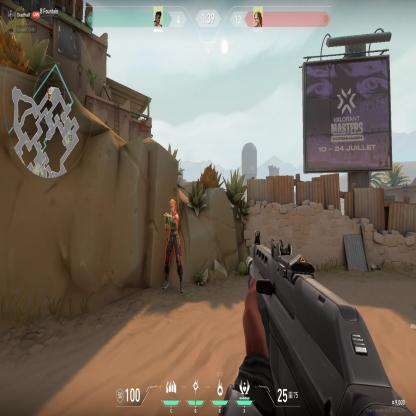enemy: (162, 196, 184, 294)
